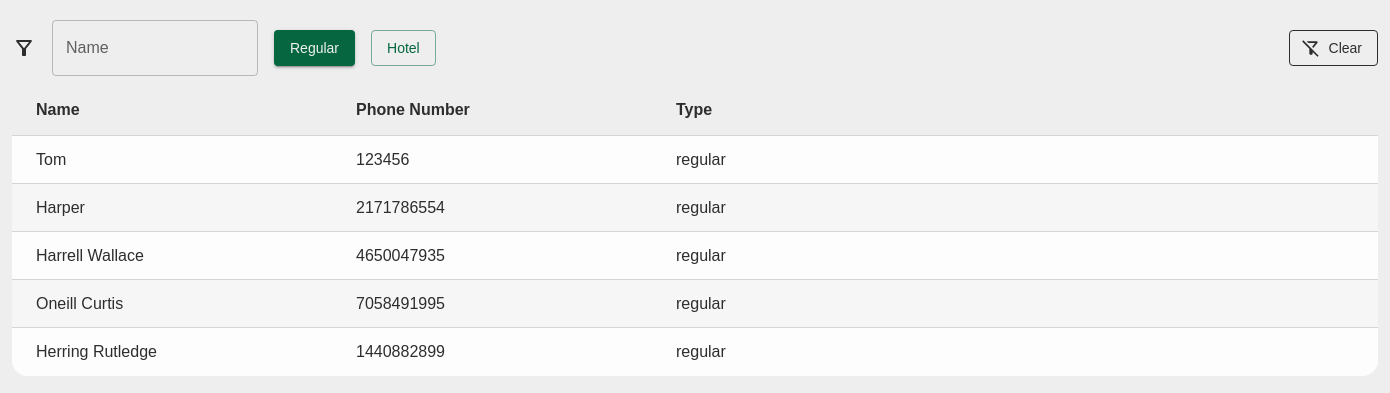
Test case: Generic Table component › Table with primary filters › should have text filter correctly select table rows by first names that match input
Expected: the text "Tom" is shown, [36,150,66,168]
Expected: the text "Harper" is shown, [36,198,85,216]
Type "Tom" into the field labelled "Name" at (155, 48), box [52,20,258,76]
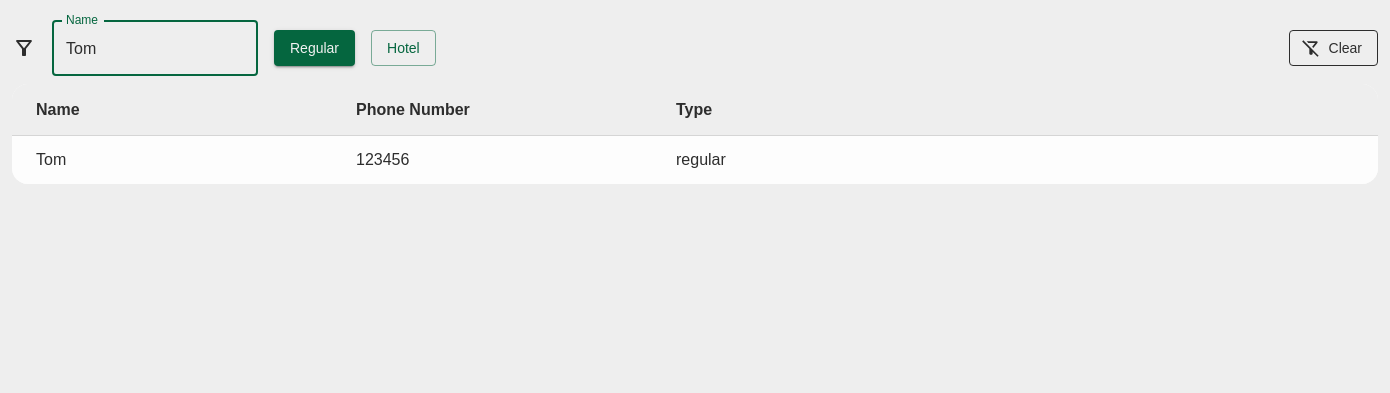
Expected: the text "Tom" is shown, [36,151,66,168]
Result: the text "Harper" is gone
